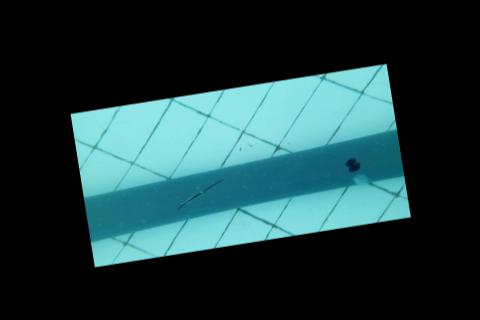kebocoran: (343, 153, 363, 173)
keretakan: (171, 177, 226, 209)
